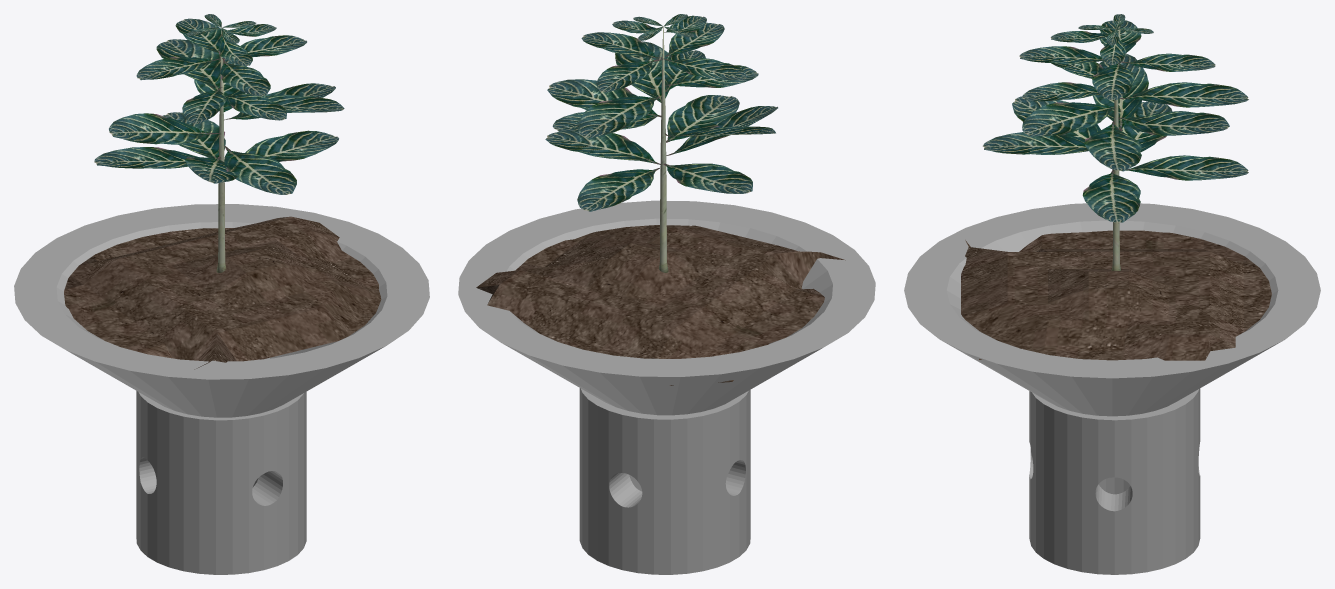
The model's file is Zibraplants.fbx.
The picture shows the model from 3 angles, left to right: view 1: azimuth 30°, elevation 25°; view 2: azimuth 150°, elevation 25°; view 3: azimuth 270°, elevation 25°; orthographic projection.
Visible parts, largest first — view 1: Cylinder.002; view 2: Cylinder.002; view 3: Cylinder.002.
Boxes of the visible parts, x1=… form: Cylinder.002: x1=14, y1=14, x2=429, y2=574; Cylinder.002: x1=458, y1=14, x2=875, y2=574; Cylinder.002: x1=904, y1=14, x2=1320, y2=574.
Bounding box in the file's own units: 34.54 × 46.7 × 34.54.
Materials: 25 (24 with a texture image).
